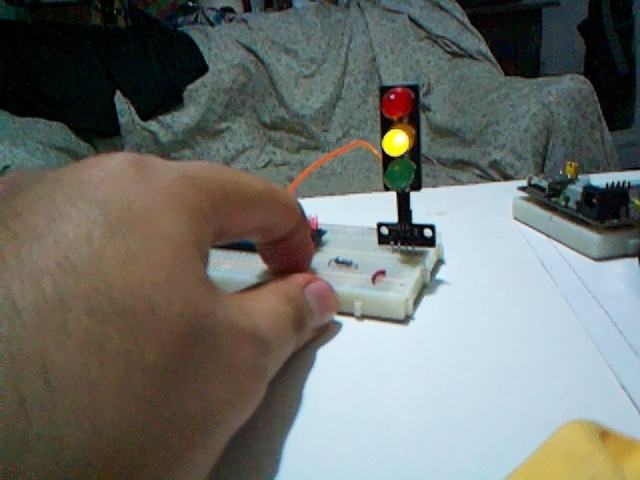traffic_light_yellow: (379, 83, 422, 192)
